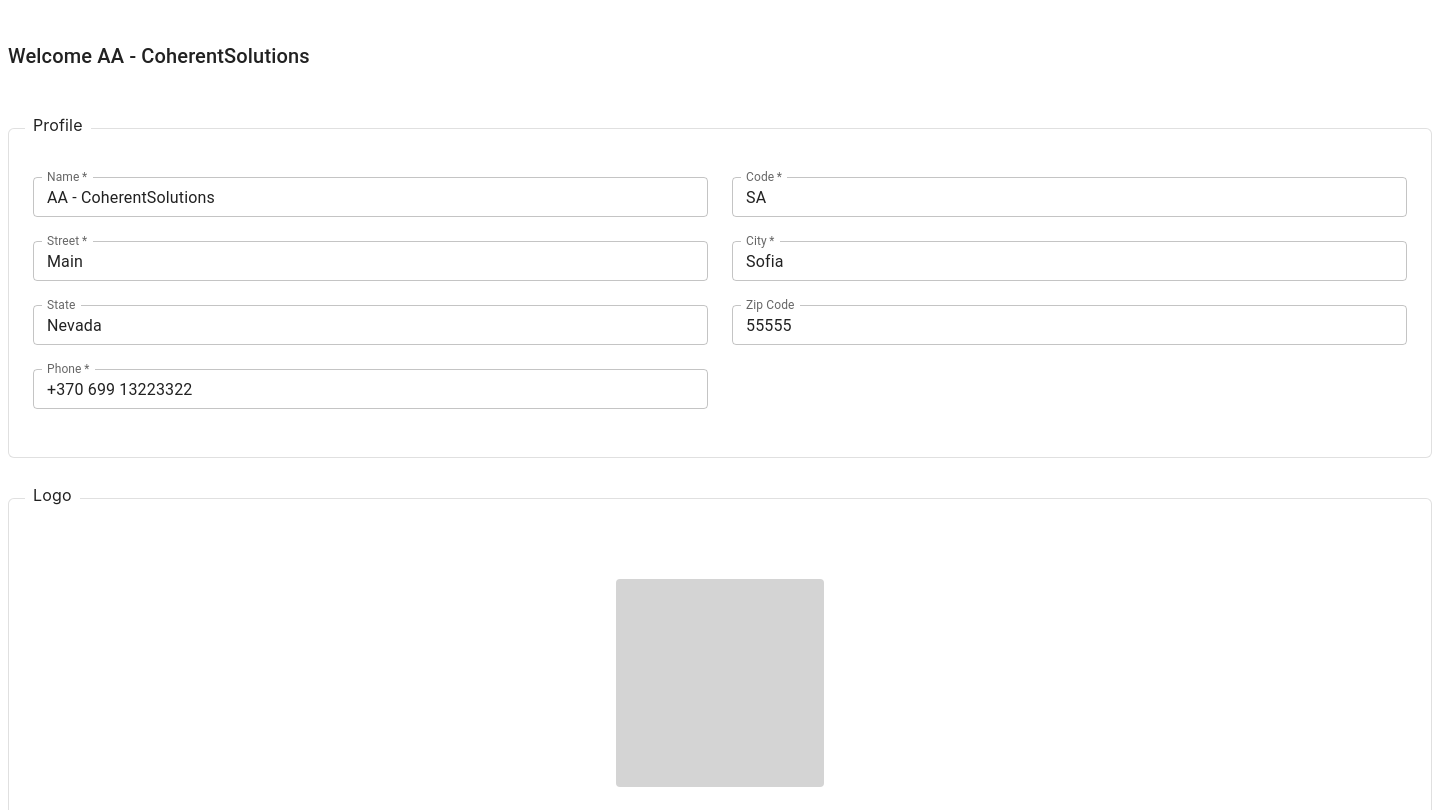
Test: EmployerProfile: validation and error messages › Should show error message if invalid zip code length of 3 symbols
This screenshot has width=1440, height=810.
Replace the text in the field labelled "Zip Code" with "123": x=1070, y=325 [732, 305, 1407, 345]
(page scrolled)
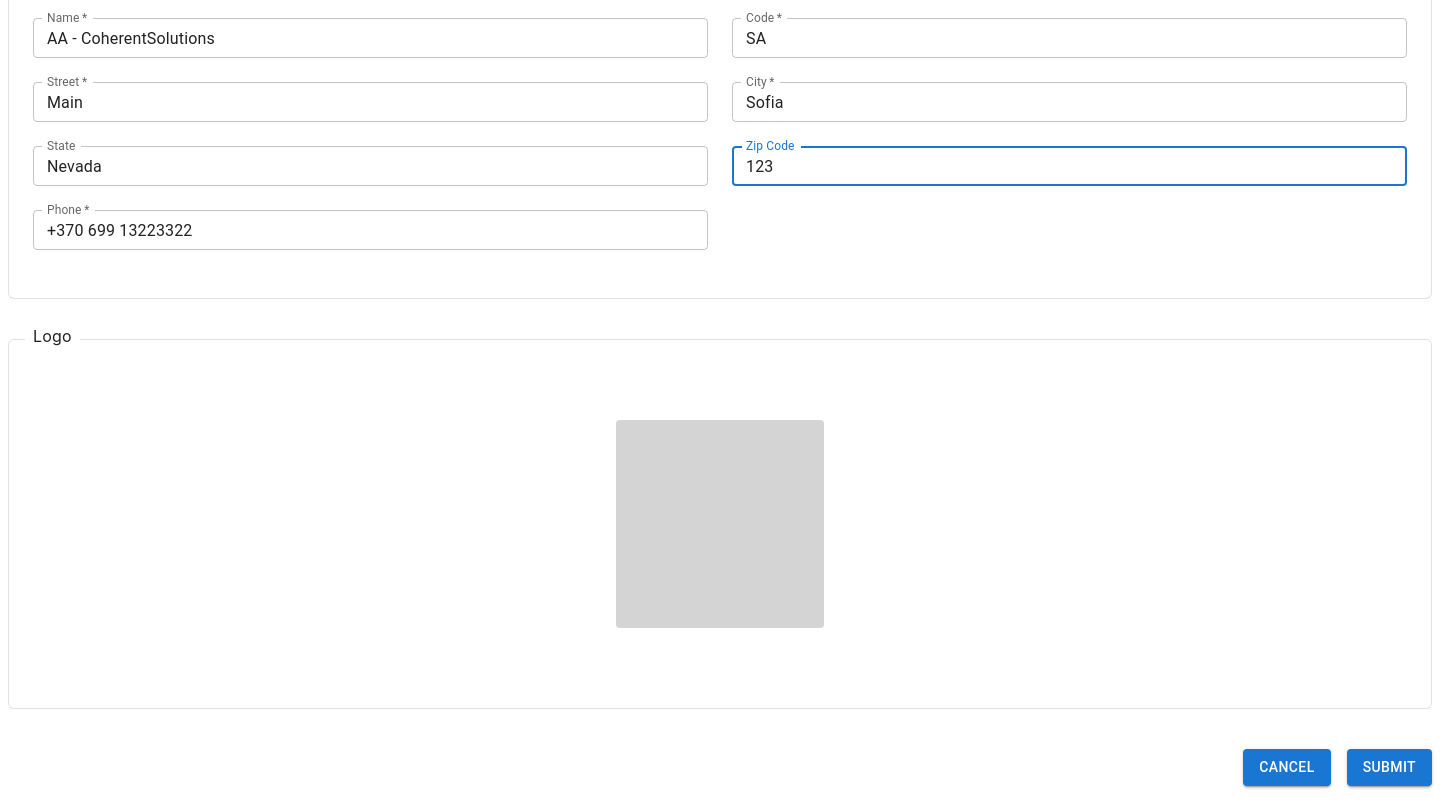
Click the button "Submit": x=1389, y=767 [1347, 749, 1432, 786]
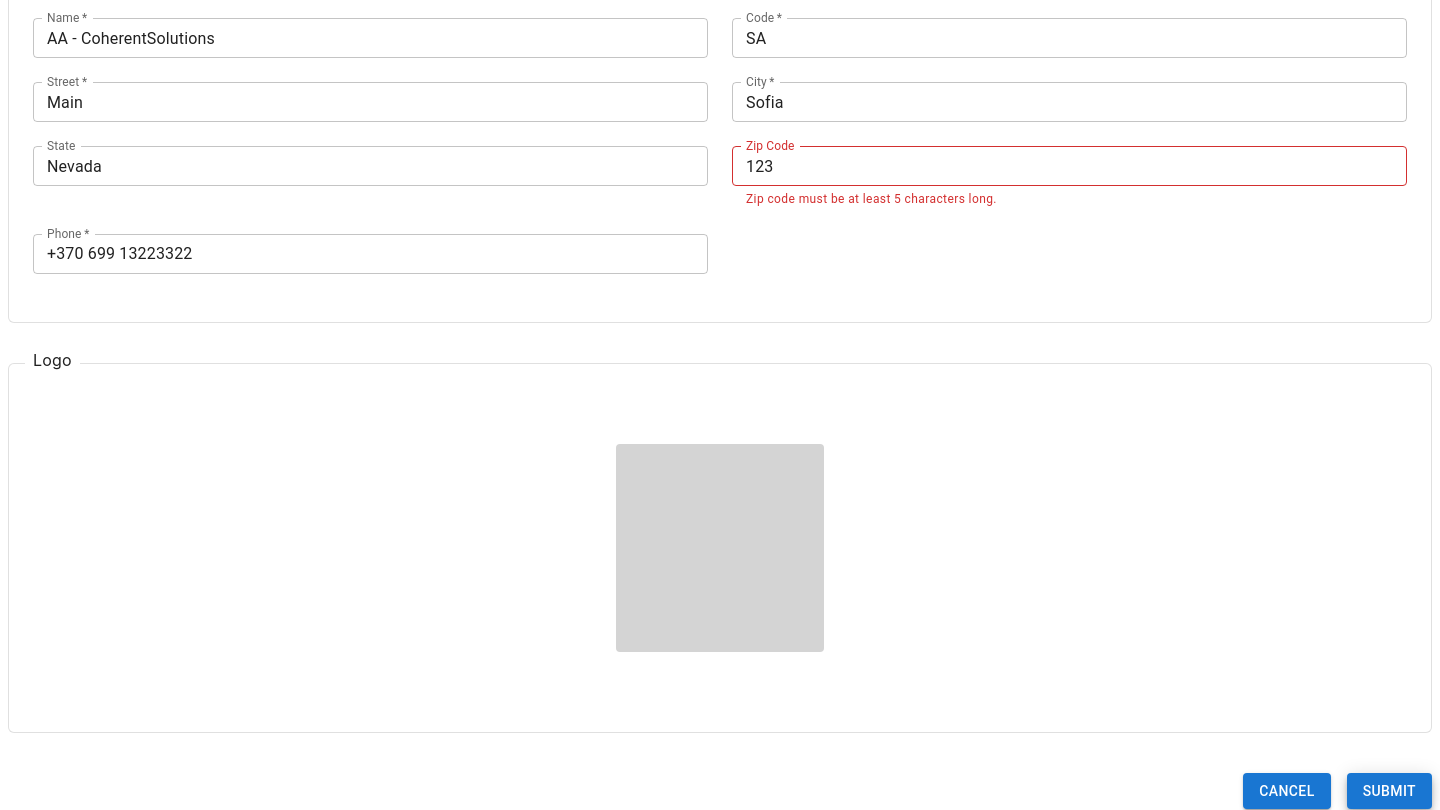
Result: the text "Zip code must be at least 5 characters long." is shown at [746, 192, 997, 206]
